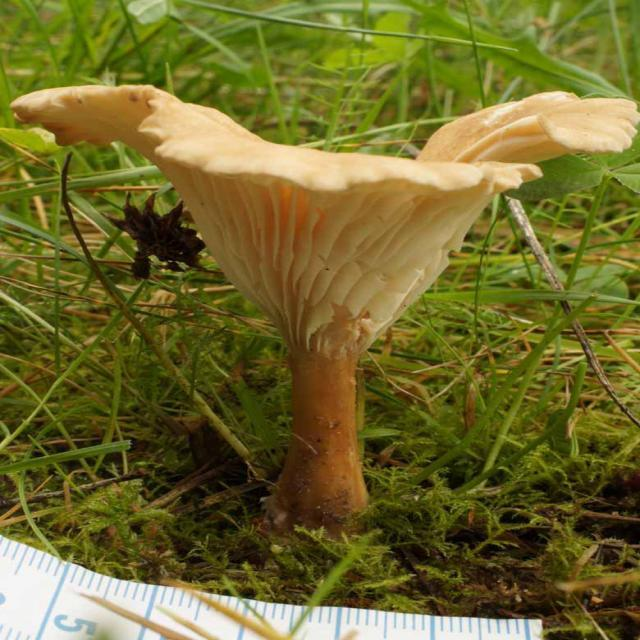Clitocybe maxima: (12, 88, 639, 530)
